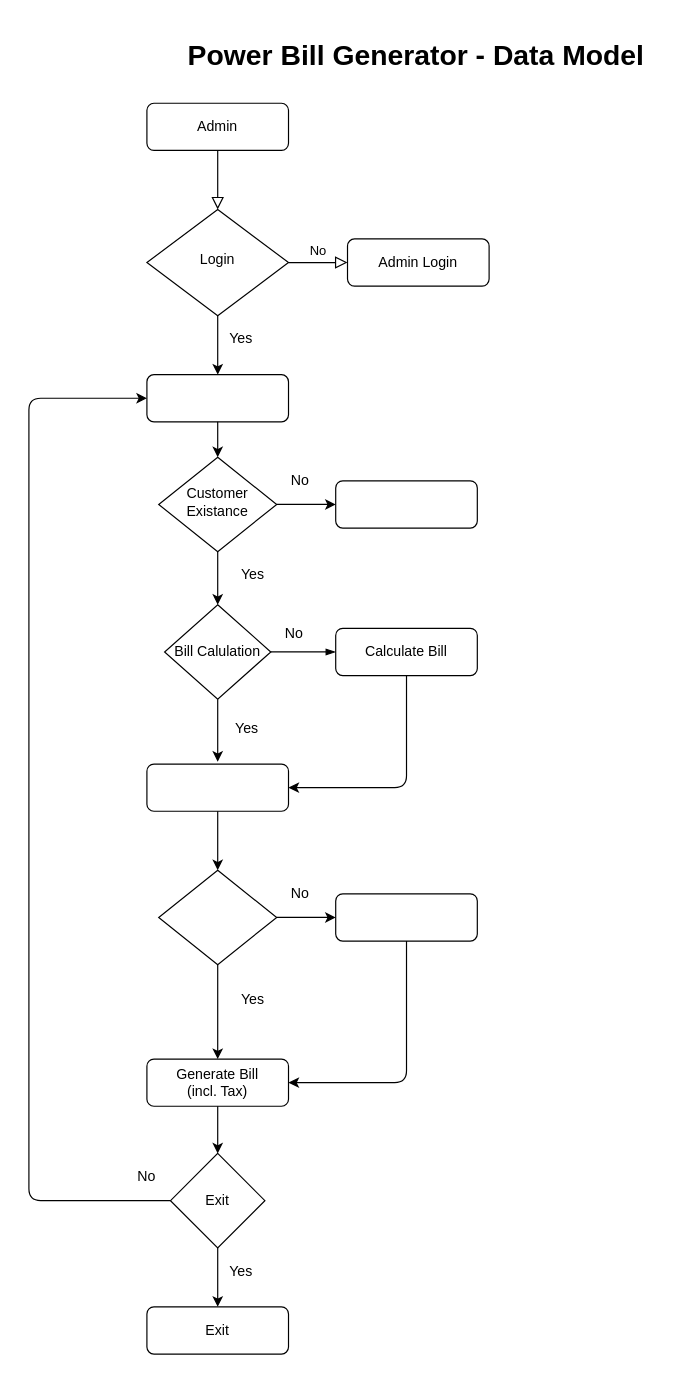
Image size: 675x1375. Some labels were removed from this diagram. Here are the shapes that lost their labels. From the top down, the centre of each, then its label:
At pixel 217 397: "Billing Interface".
At pixel 406 504: "Register Customer".
At pixel 217 787: "Submit".
At pixel 217 917: "Meter Number".
At pixel 406 917: "Enter Meter number".
